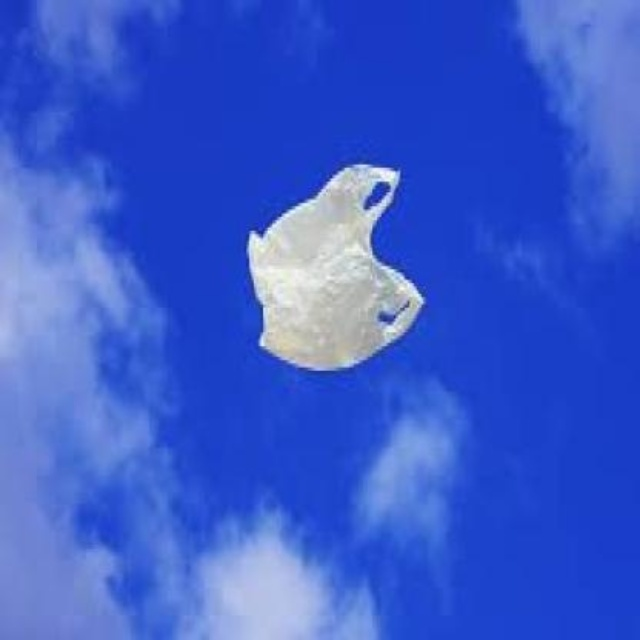trash: (248, 165, 422, 369)
